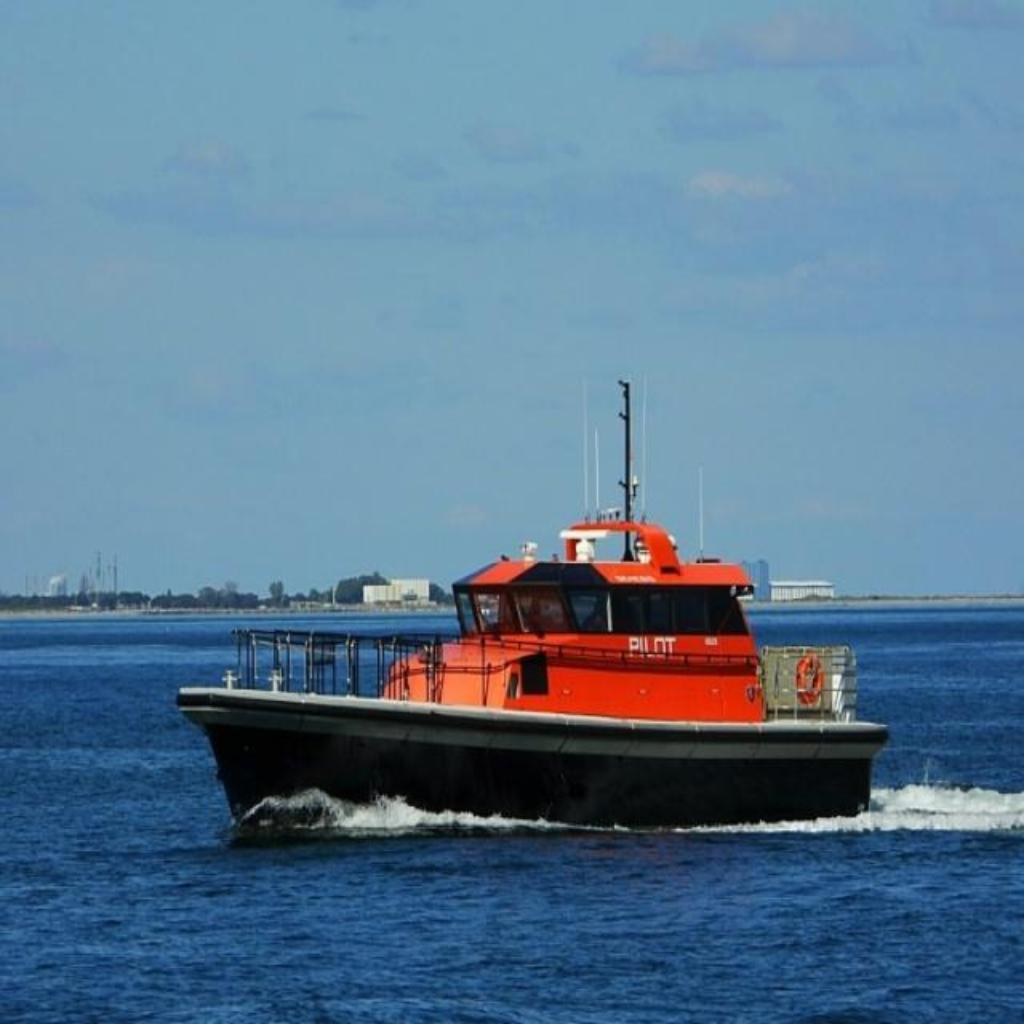PassengerShip: (176, 373, 892, 843)
